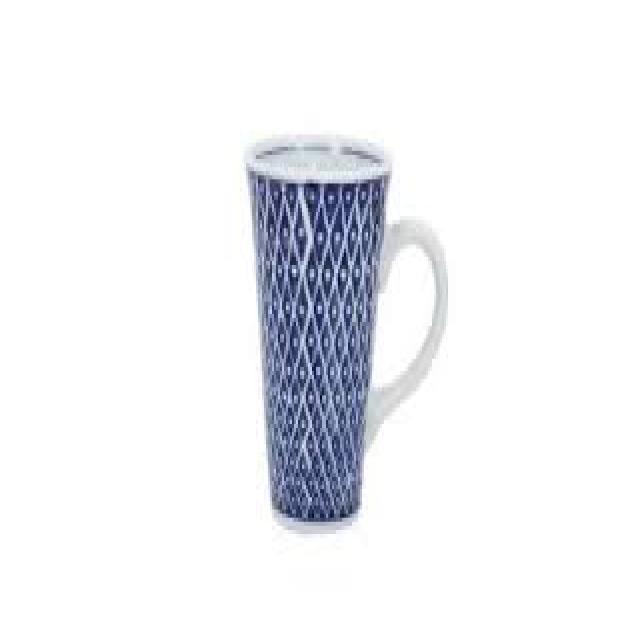taza: (243, 130, 449, 533)
